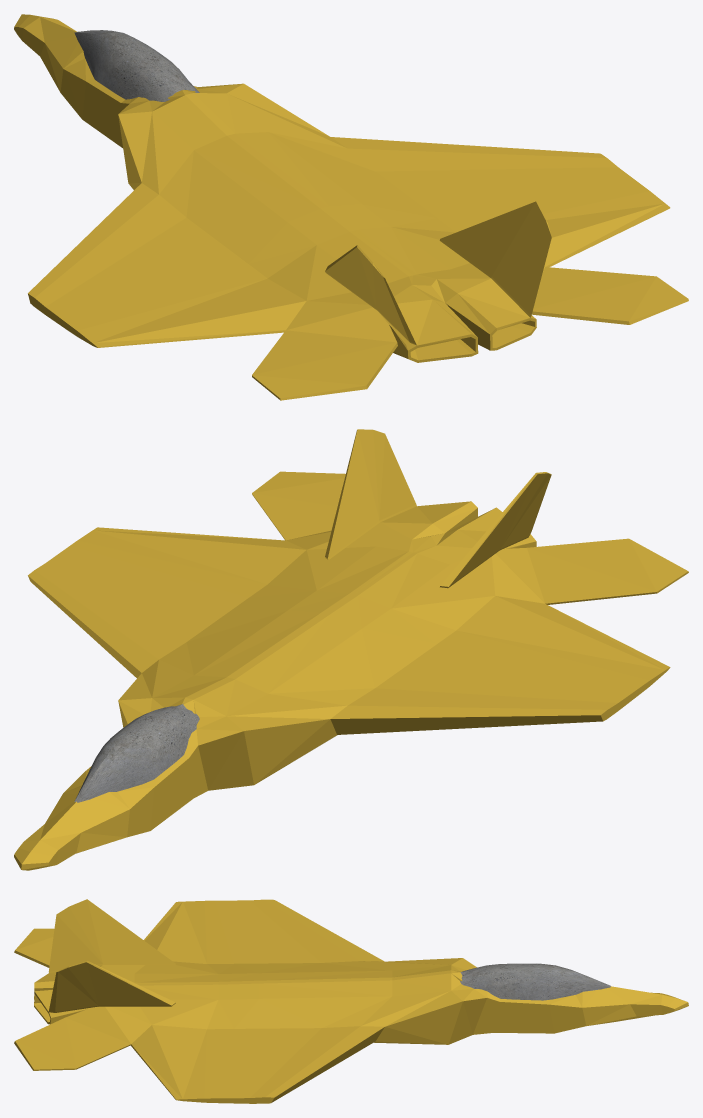
File: fighter.obj
The picture shows the model from 3 angles, top to bottom: view 1: azimuth 30°, elevation 25°; view 2: azimuth 150°, elevation 25°; view 3: azimuth 270°, elevation 25°; orthographic projection. The views are drawn at different scales.
Visible parts, largest first — view 1: Plane, Plane.001; view 2: Plane, Plane.001; view 3: Plane, Plane.001.
Part boxes in pixels (x1,y1,x2,y2): Plane: [14, 14, 688, 400]; Plane.001: [74, 30, 199, 101]; Plane: [14, 429, 688, 870]; Plane.001: [74, 703, 199, 802]; Plane: [14, 899, 688, 1103]; Plane.001: [460, 963, 610, 1000].
Size of the model in its own units: 8.04 by 1.95 by 11.6.
2 materials, 2 textured.
